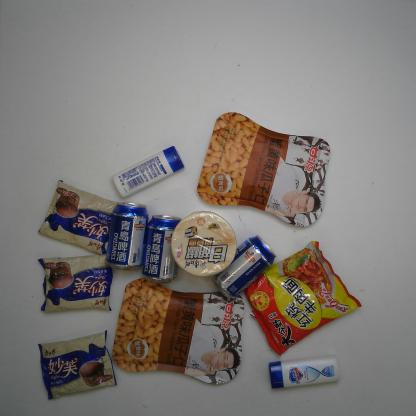Alcohol: (210, 235, 277, 303), (104, 200, 150, 272), (140, 213, 182, 284)
Dessert: (36, 178, 124, 257), (36, 330, 118, 400), (36, 253, 115, 314)
Dried Fruit: (197, 112, 332, 230), (111, 276, 246, 387)
Instant Noodles: (243, 239, 364, 357), (170, 210, 238, 278)
Personal Hygiene: (110, 146, 186, 199), (268, 355, 340, 390)
